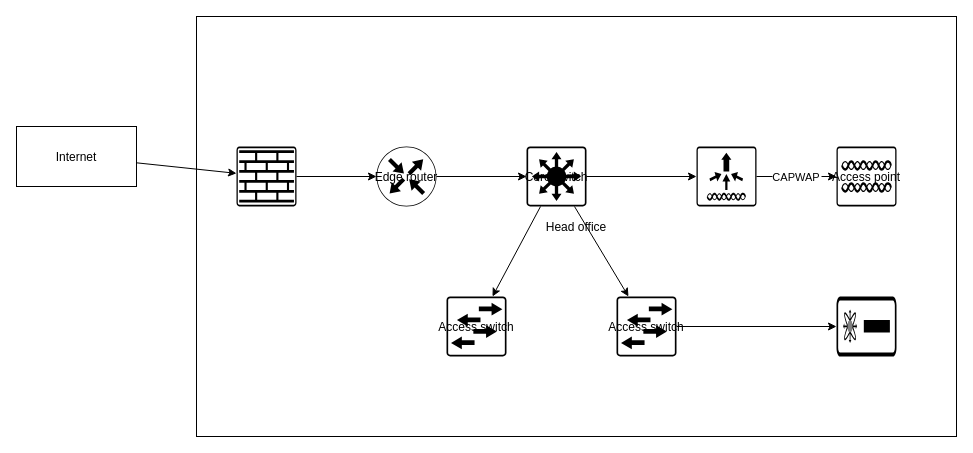
This 973x453 diagram has some shape labels left out. The shapes that lost their labels are listed below. From the top down, each one's box as (x1, y1, x2, y2) in pixels, then its label:
(236, 146, 296, 206): Firewall
(696, 146, 756, 206): Wireless controller
(836, 296, 896, 356): Servers
